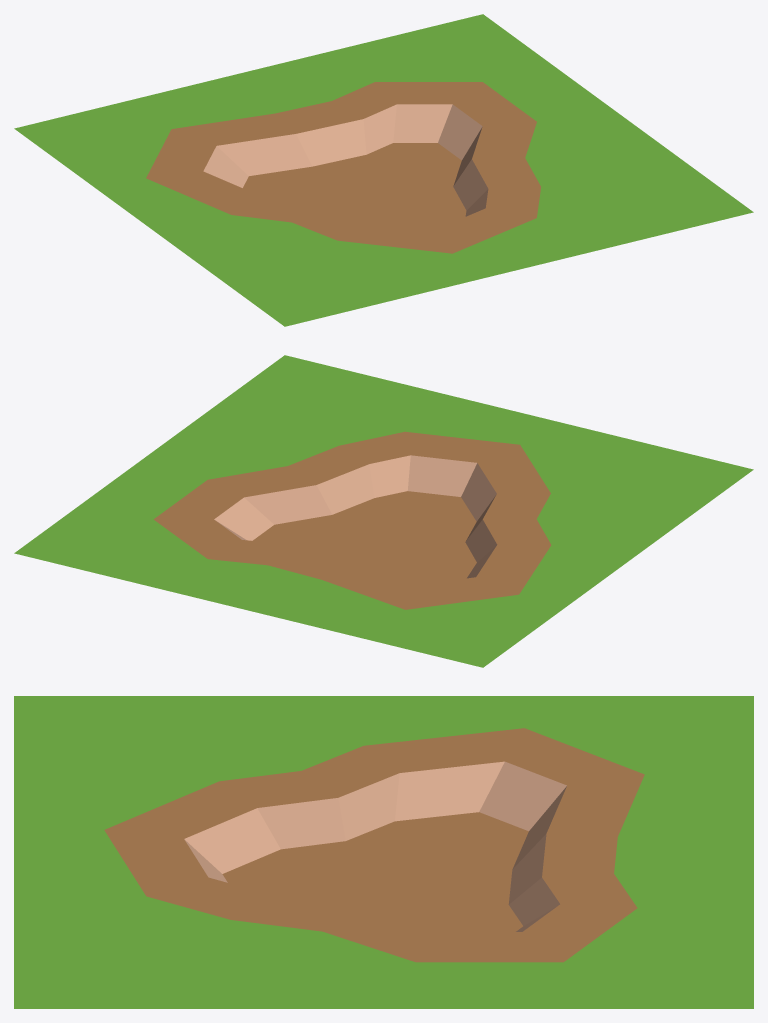
Rendered from ground_pathTile.glb.
The picture shows the model from 3 angles, top to bottom: view 1: azimuth 30°, elevation 25°; view 2: azimuth 150°, elevation 25°; view 3: azimuth 270°, elevation 25°; orthographic projection. The views are drawn at different scales.
Visible parts, largest first — view 1: ground_pathTile; view 2: ground_pathTile; view 3: ground_pathTile.
Boxes of the visible parts, box(x1,y1,x2,y2) form: ground_pathTile: box(14, 14, 753, 326); ground_pathTile: box(14, 355, 753, 667); ground_pathTile: box(14, 696, 753, 1008).
Size of the model in its own units: 1 by 0.05 by 1.
